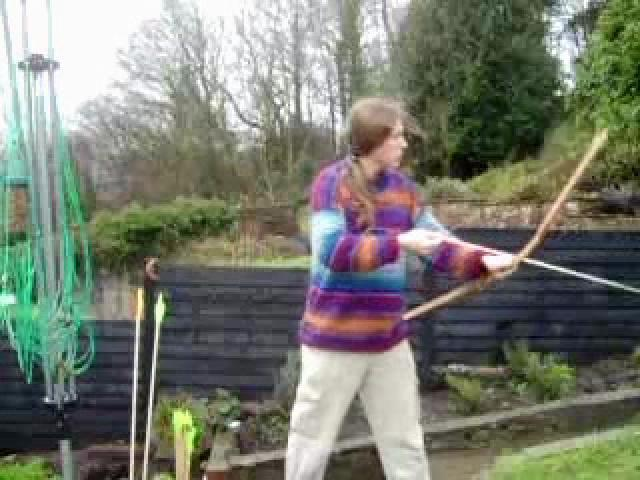I: (263, 85, 543, 480)
